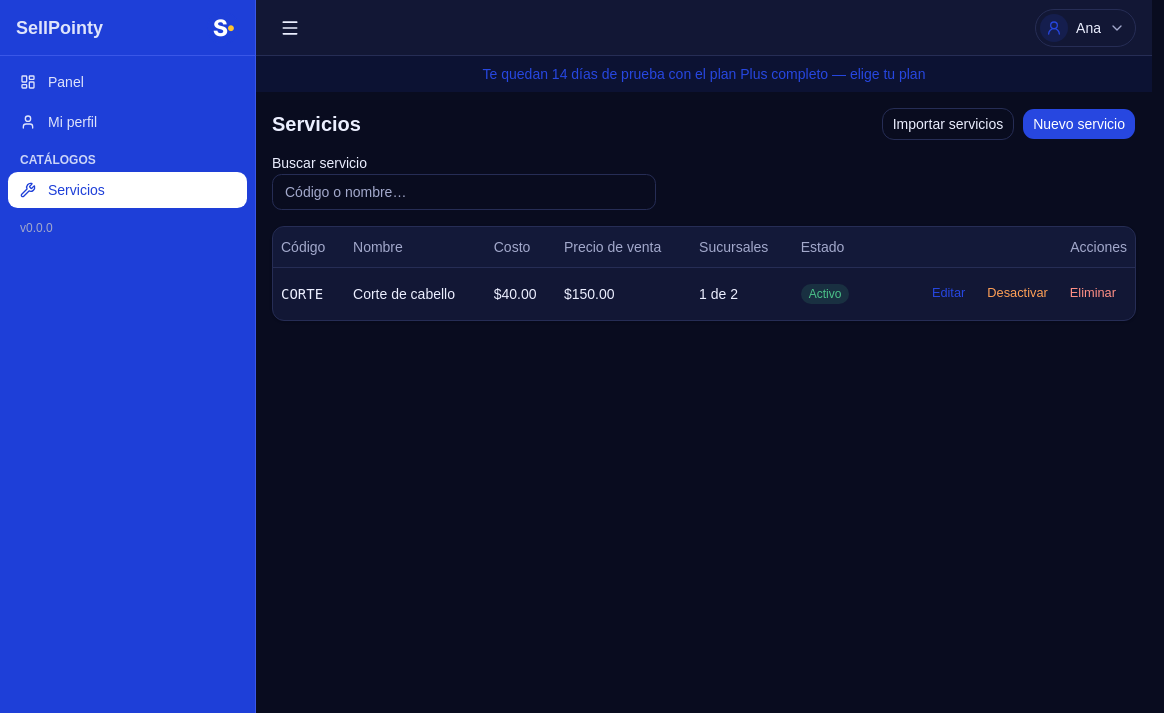
Test: Catálogo de servicios (F3-SVC-04) › los almacenes donde se ofrece (F3-SVC-08) › editar precarga los almacenes del servicio
expect the text "Corte de cabello" is shown: met, box [345,267,486,320]
What coordinates should you click on to do the following:
click the button "Editar"
I would click on:
 (949, 294)
Its box is [921,280,976,308].
(page scrolled)
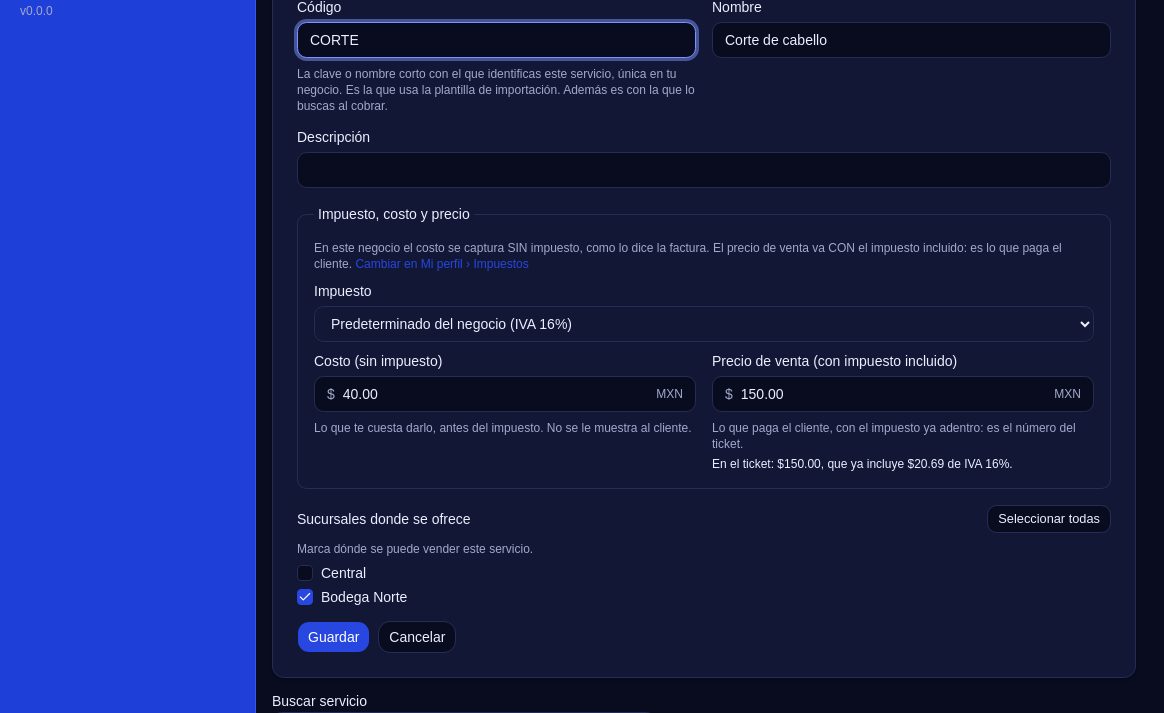
expect the checkbox with test id "service-warehouse-w2" is checked: met, box [297,589,313,605]
expect the checkbox with test id "service-warehouse-w1" is not checked: met, box [297,565,313,581]
